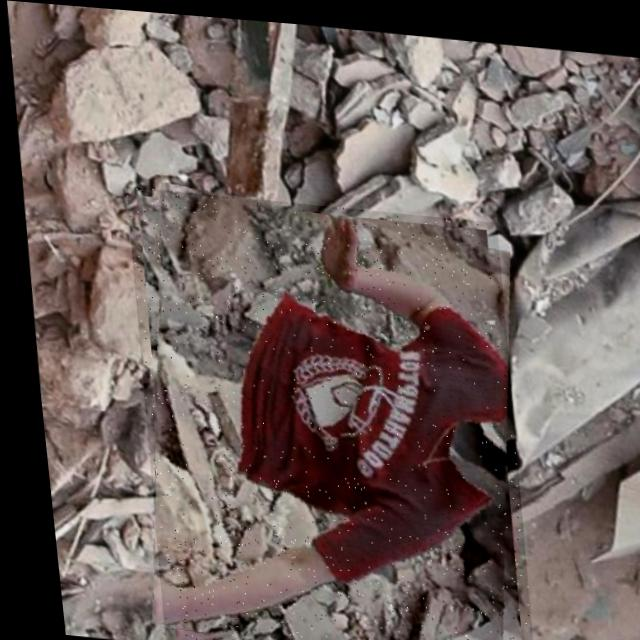Person in Rubble: (112, 183, 528, 640)
